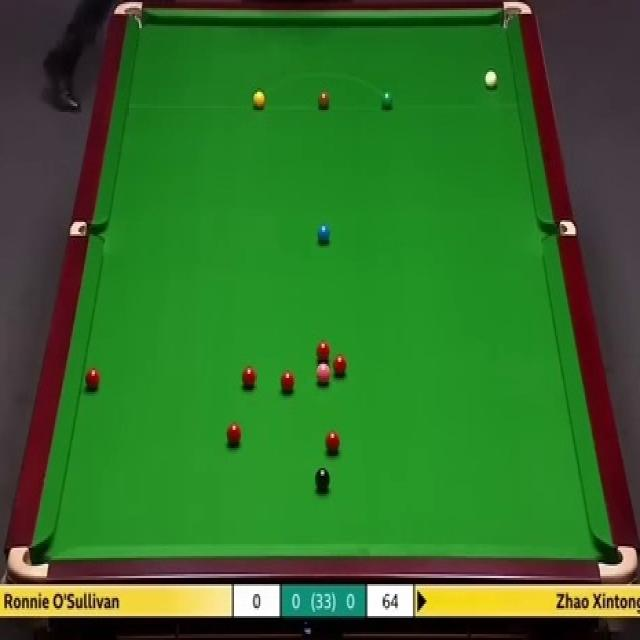black-ball: (314, 467, 331, 492)
blue-ball: (319, 225, 331, 248)
brown-ball: (318, 93, 330, 110)
green-ball: (382, 90, 393, 110)
pink-ball: (315, 361, 331, 387)
red-ball: (226, 422, 244, 450), (83, 367, 101, 391), (315, 338, 332, 363), (325, 430, 342, 454), (332, 353, 347, 378), (242, 366, 257, 391), (280, 369, 294, 394)
white-ball: (484, 66, 499, 90)
yellow-ball: (251, 90, 265, 110)
